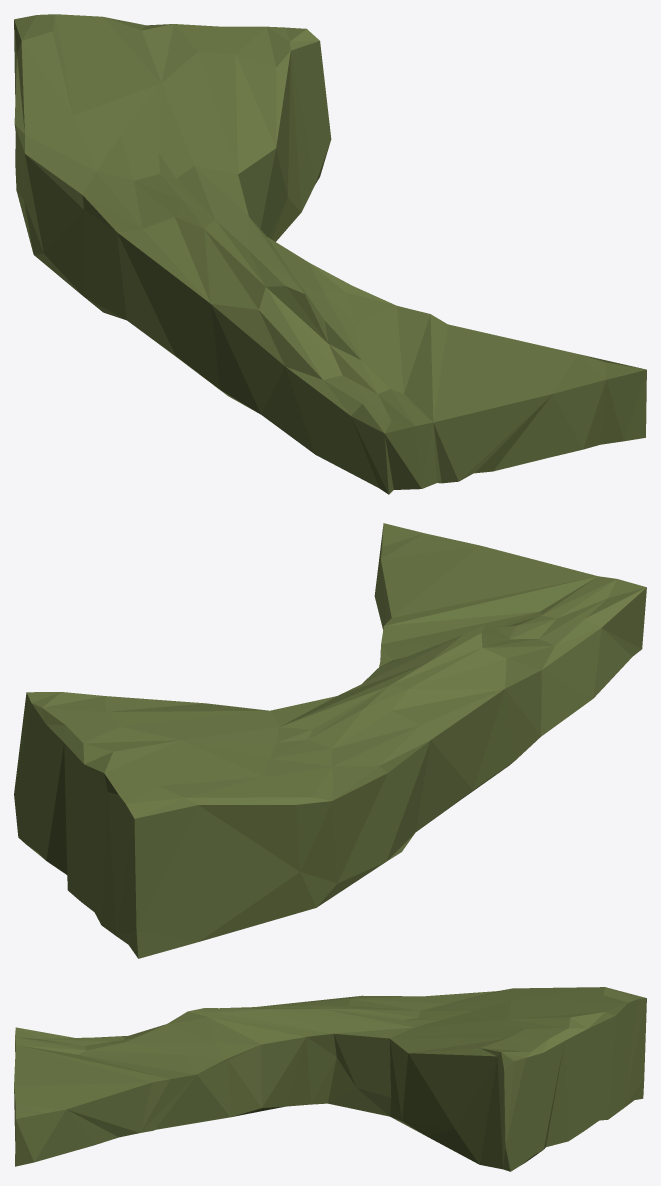
Rendered from ground_11.fbx.
The picture shows the model from 3 angles, top to bottom: view 1: azimuth 30°, elevation 25°; view 2: azimuth 150°, elevation 25°; view 3: azimuth 270°, elevation 25°; orthographic projection. The views are drawn at different scales.
Parts seen in each view (by area): view 1: ground_11; view 2: ground_11; view 3: ground_11.
Boxes of the visible parts, x1,y1,x2,y2 form: ground_11: (14,14,646,494); ground_11: (14,523,646,958); ground_11: (14,987,646,1171).
Size of the model in its own units: 11.9 by 5.74 by 28.91.
